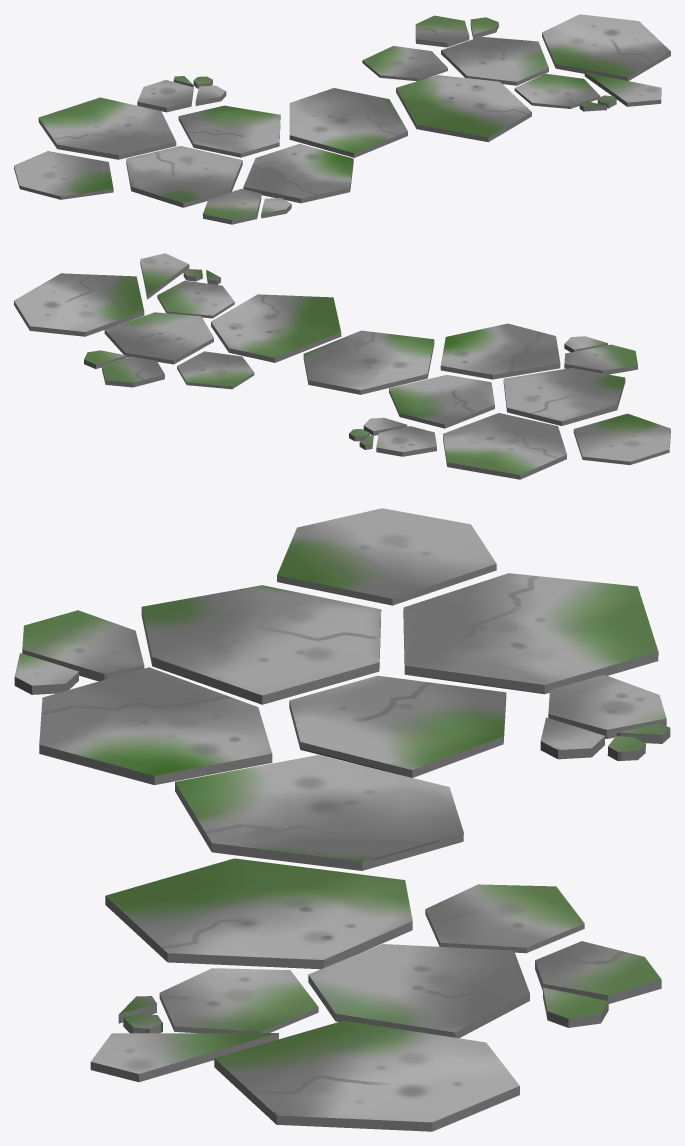
File: Petite dalle3.fbx
3 views of the same model, one above another, from view 1: azimuth 30°, elevation 25°; view 2: azimuth 150°, elevation 25°; view 3: azimuth 270°, elevation 25° (orthographic). The views are drawn at different scales.
Visible parts, largest first — view 1: Cercle.003; view 2: Cercle.003; view 3: Cercle.003.
Boxes of the visible parts, left/top/right/bottom form: Cercle.003: left=14, top=14, right=670, bottom=224; Cercle.003: left=14, top=253, right=670, bottom=479; Cercle.003: left=14, top=508, right=670, bottom=1131.
Bounding box in the file's own units: 953 × 7.75 × 428.
